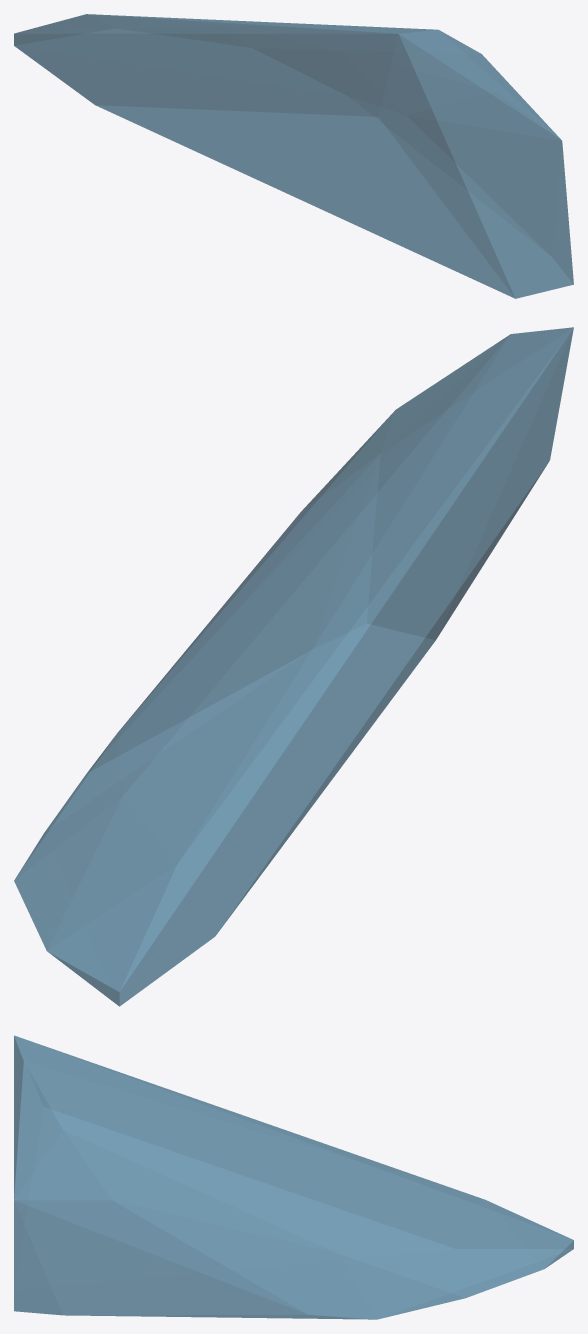
The picture shows the model from 3 angles, top to bottom: view 1: azimuth 30°, elevation 25°; view 2: azimuth 150°, elevation 25°; view 3: azimuth 270°, elevation 25°; orthographic projection. The views are drawn at different scales.
Visible parts, largest first — view 1: Shape_IndexedFaceSet.029_Shape_IndexedFaceSet.4583; view 2: Shape_IndexedFaceSet.029_Shape_IndexedFaceSet.4583; view 3: Shape_IndexedFaceSet.029_Shape_IndexedFaceSet.4583.
Boxes of the visible parts, <box> form: Shape_IndexedFaceSet.029_Shape_IndexedFaceSet.4583: <box>14,14,573,298</box>; Shape_IndexedFaceSet.029_Shape_IndexedFaceSet.4583: <box>14,327,573,1006</box>; Shape_IndexedFaceSet.029_Shape_IndexedFaceSet.4583: <box>14,1035,573,1319</box>.
Bounding box in the file's own units: 0.0273 × 0.0364 × 0.0866.
